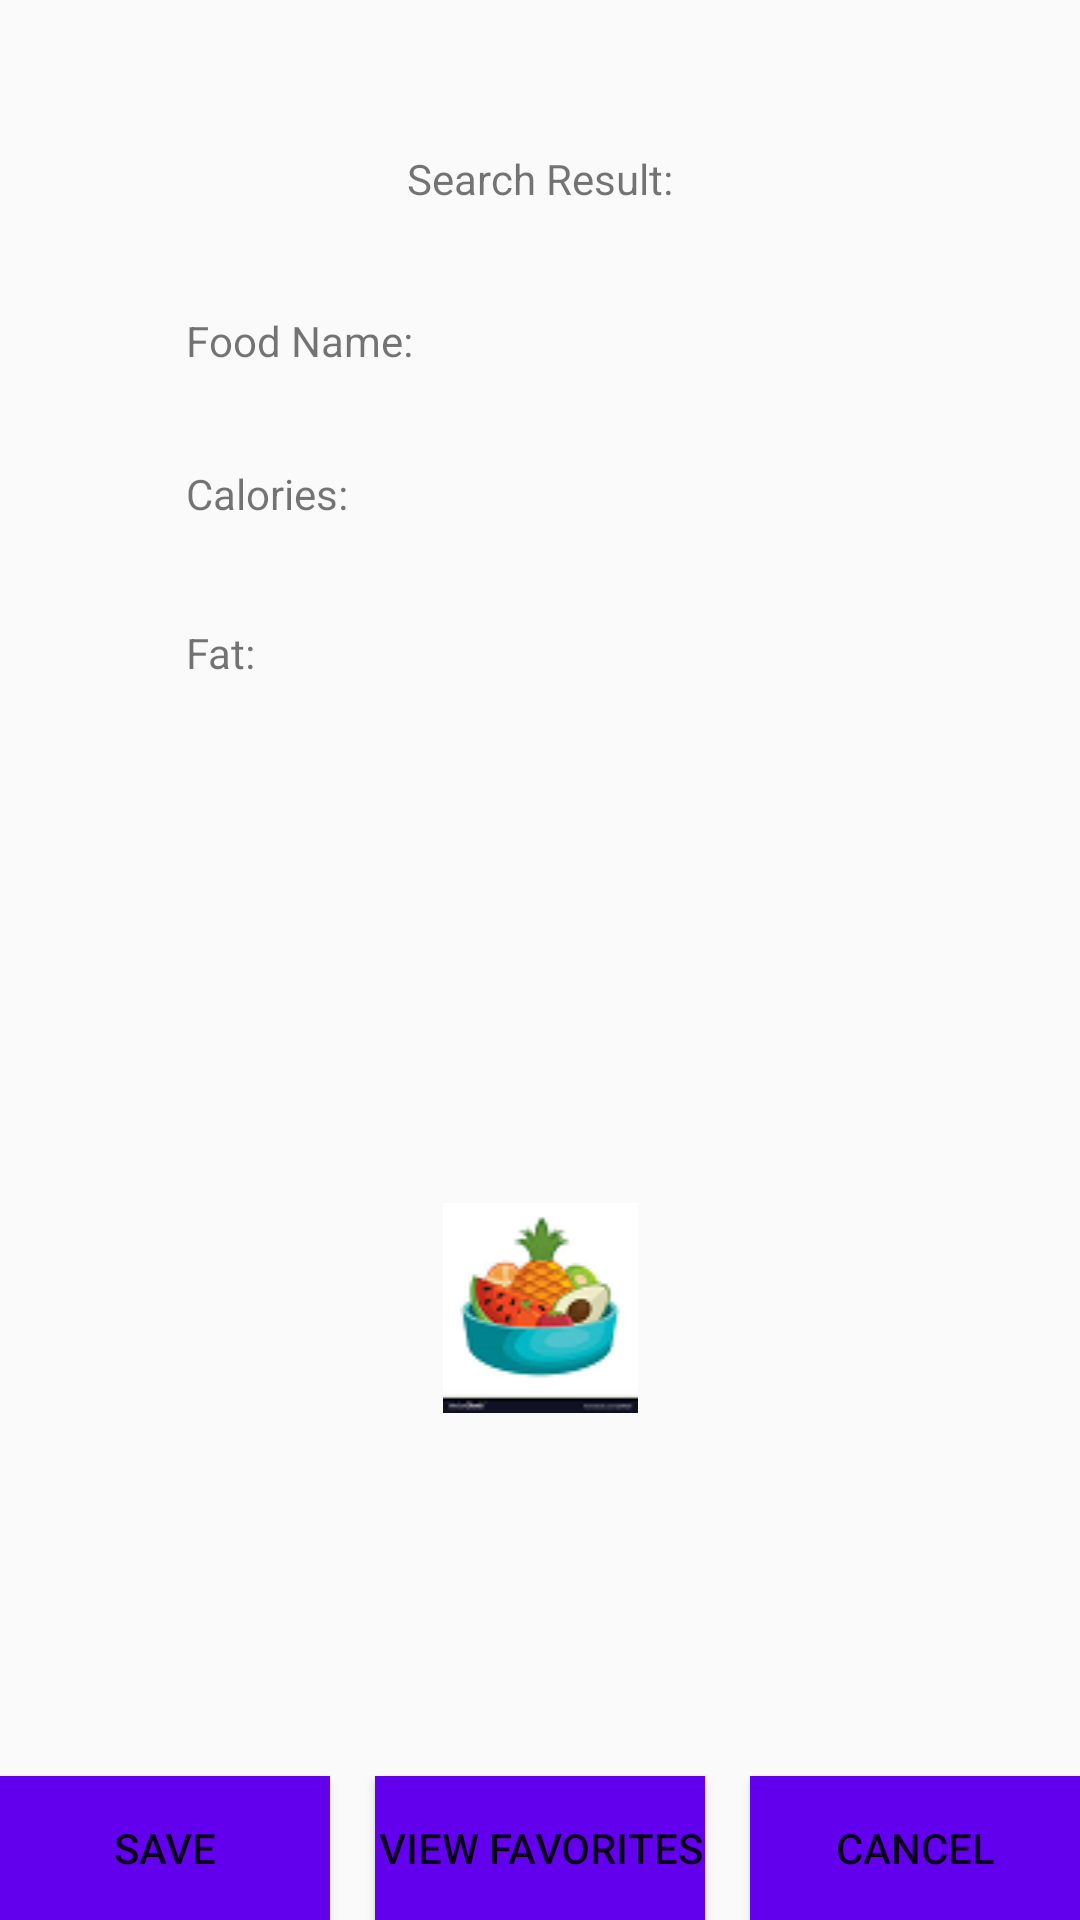

Icon click points for this 1080px x 1920px phone screenshot, format point (x, y):
food: point (540, 1315)
